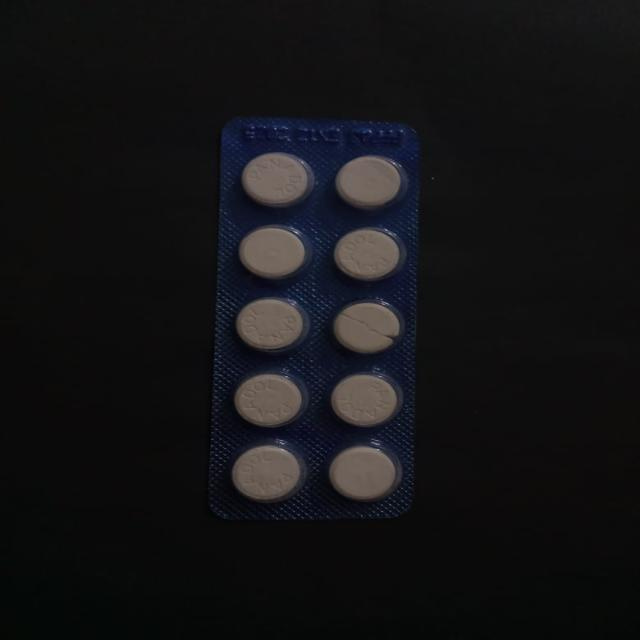defect: (328, 296, 408, 356)
